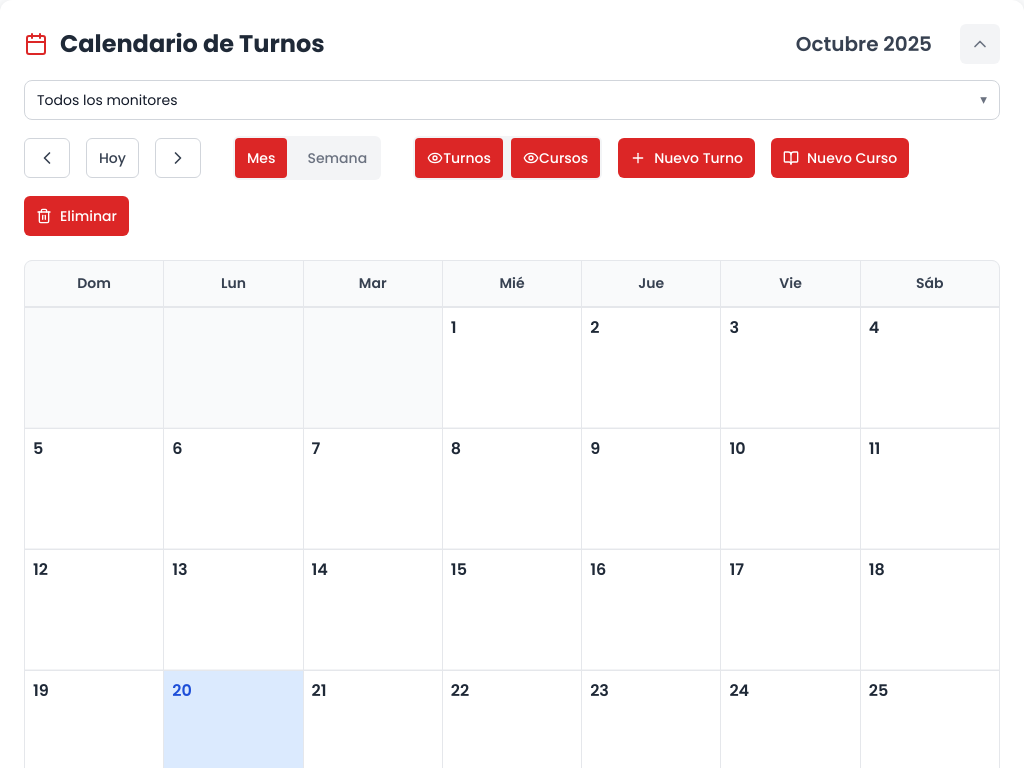
it: ScheduleCalendar › abre modal de creación de turno
Click the button "Nuevo Turno" at {"x": 687, "y": 158}, box [618,138,755,178]
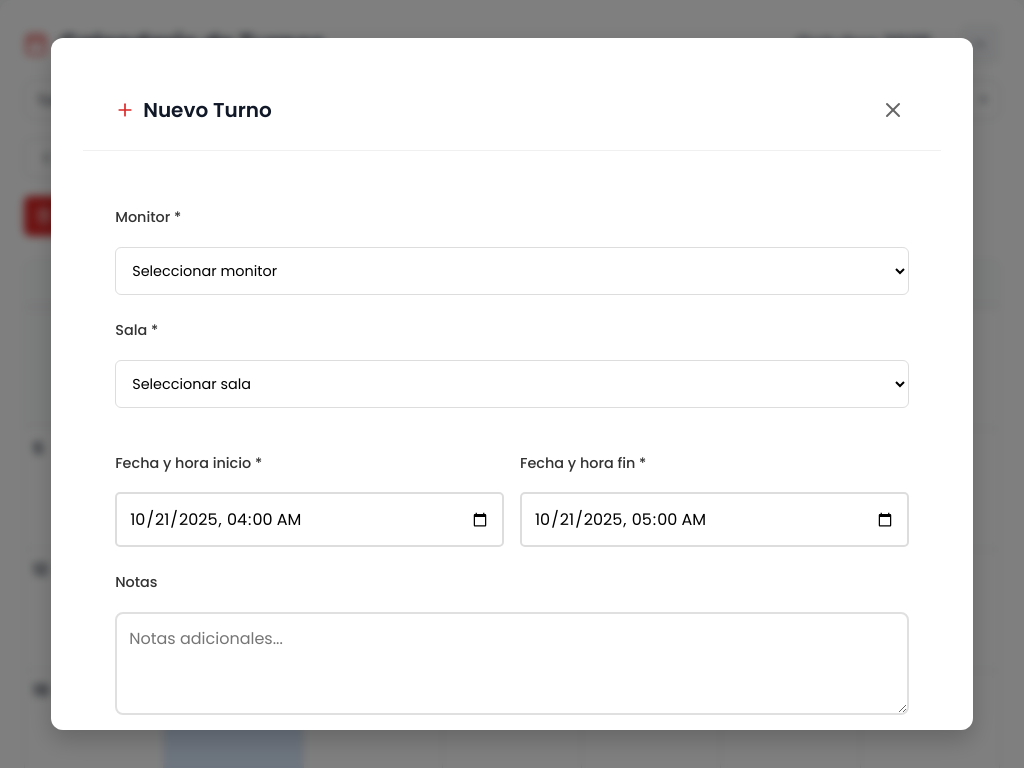
Expected: the heading "Nuevo Turno" is shown, [115,95,272,125]
